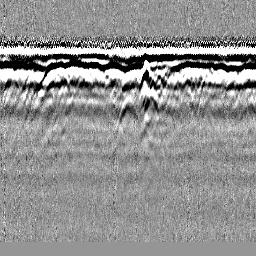cavity: (115, 95, 138, 132)
